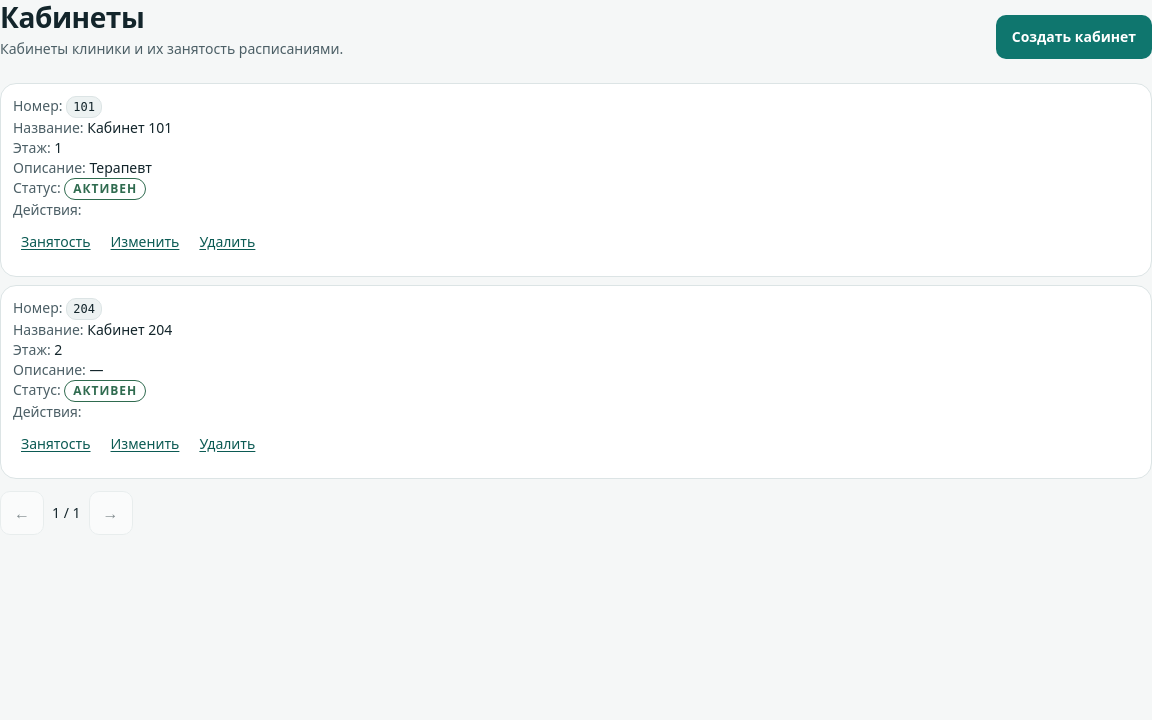
RoomsPanel › should put a taken identifier at the identifier field in Russian, not in a banner, when the service answers 409 CONFLICT
Click the button "Создать кабинет" at coordinates (1074, 37), box [996,15,1151,59]
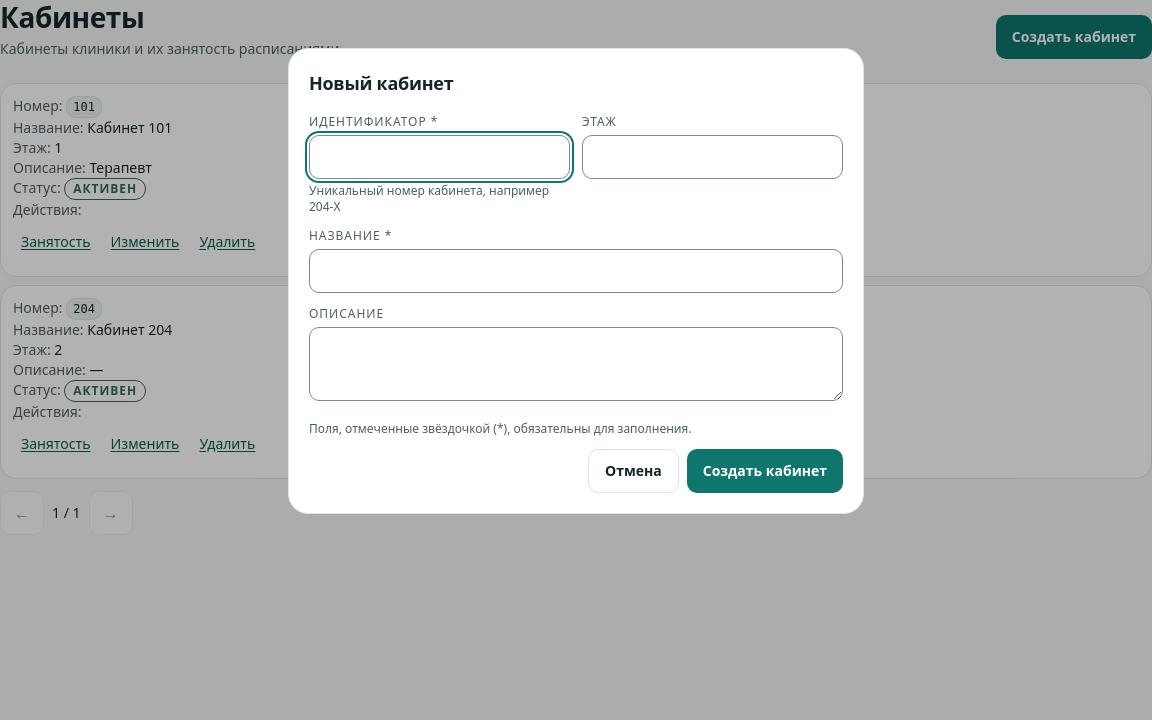
Type "101" into the field labelled "Идентификатор *" at coordinates (440, 157), box [309,135,570,179]
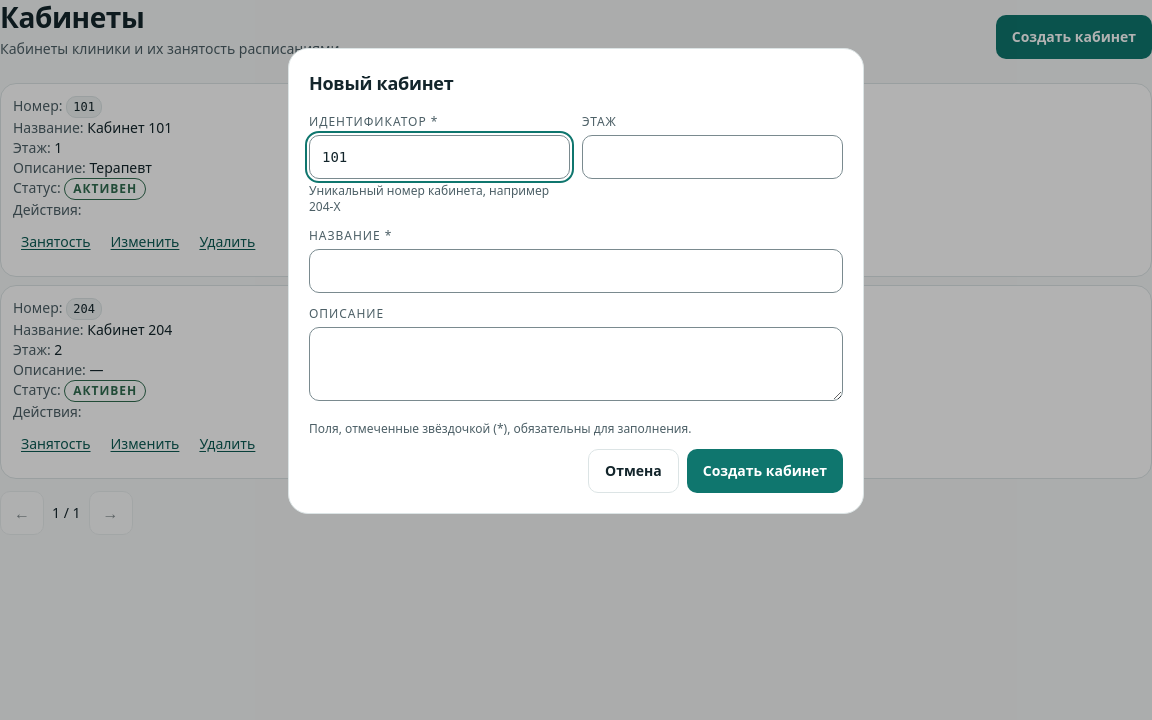
Type "Дубль" into the field labelled "Название *" at coordinates (576, 271), box [309,249,843,293]
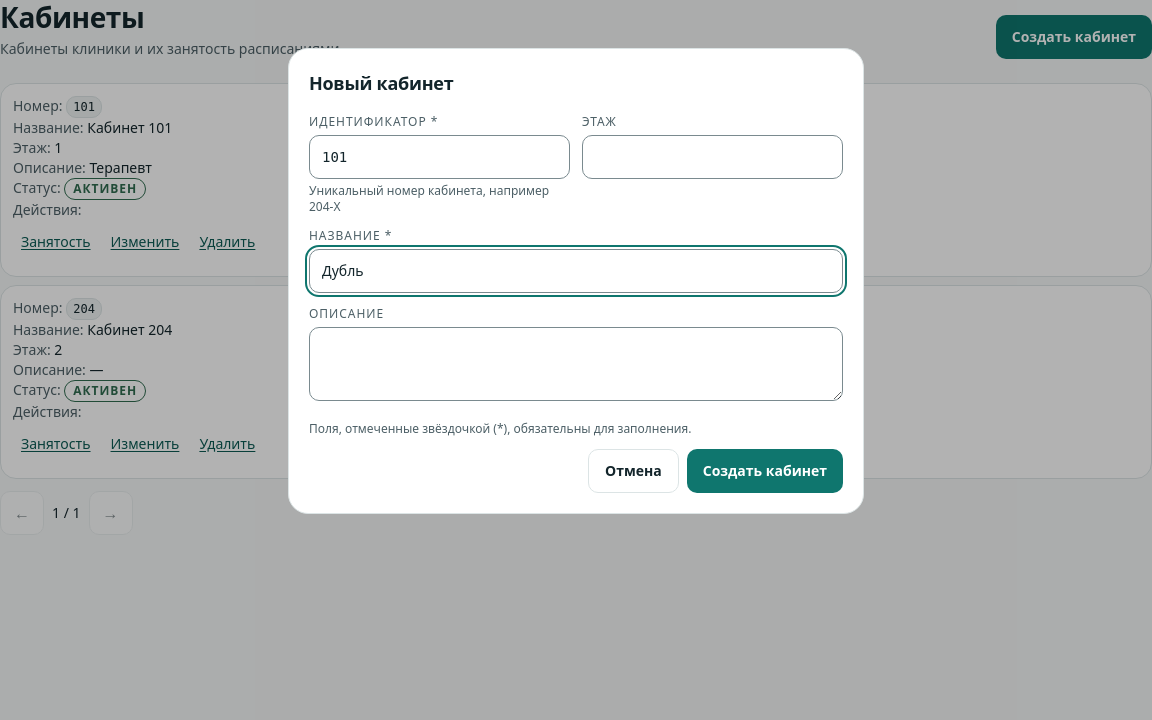
Click the button "Создать кабинет" at coordinates (765, 471), box [687,449,843,493]
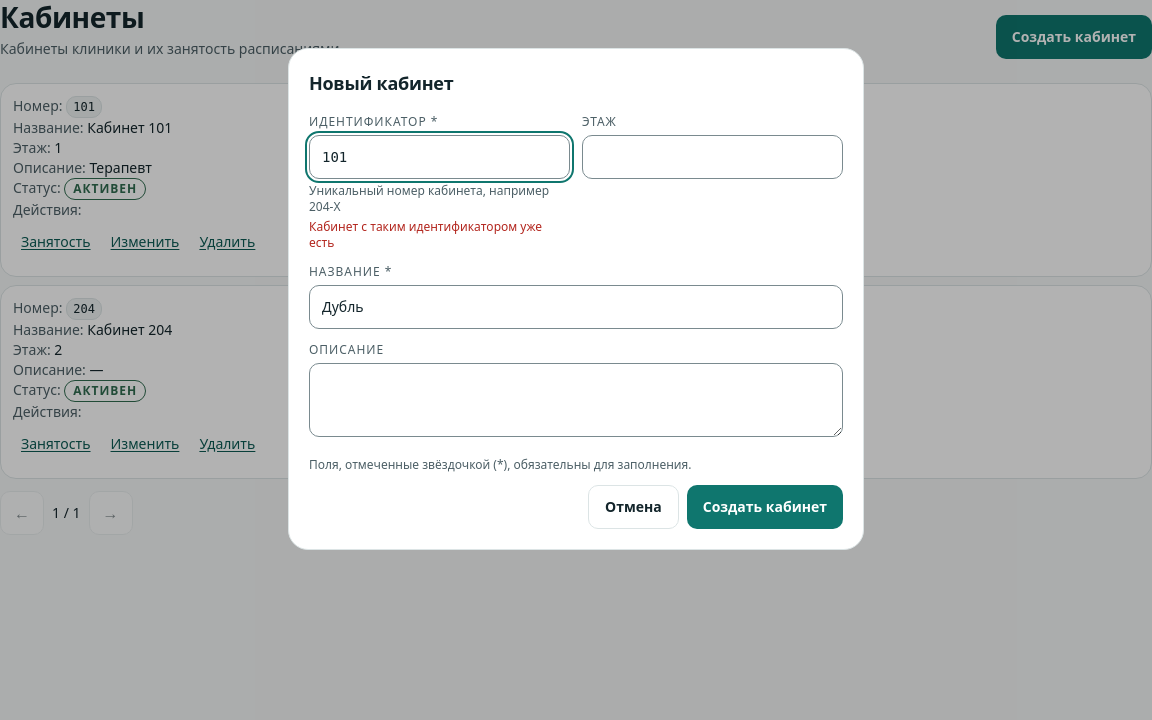
Check: the text "Кабинет с таким идентификатором уже есть" is shown, box [309,219,570,251]
